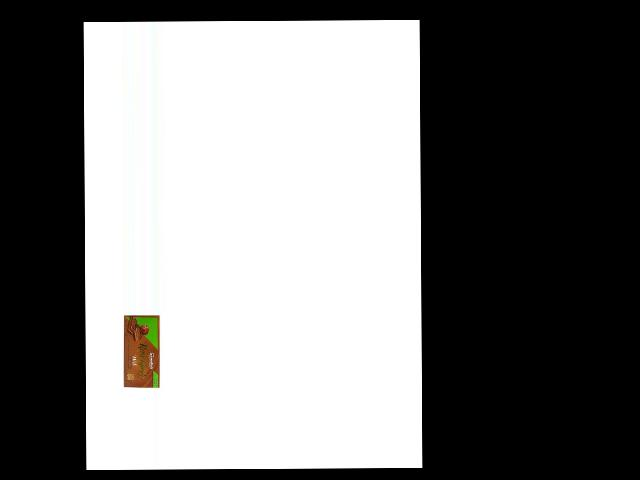chocolate: (120, 313, 161, 390)
